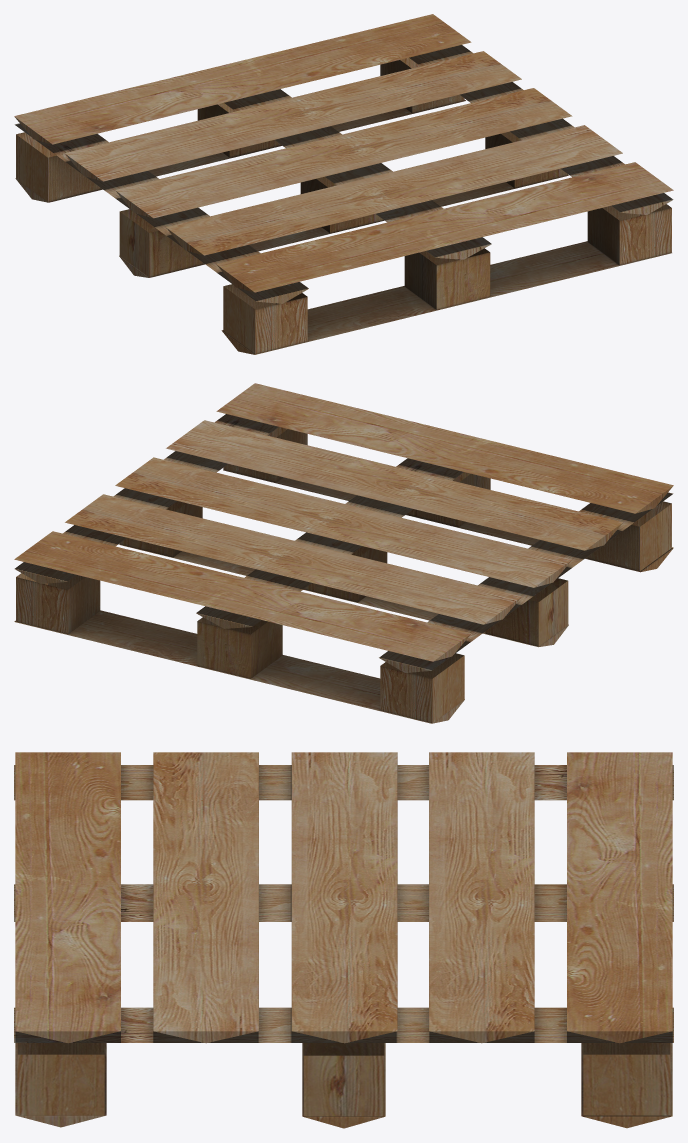
The model's file is Palette_LOD1.fbx.
3 renders of one model, top to bottom at view 1: azimuth 30°, elevation 25°; view 2: azimuth 150°, elevation 25°; view 3: azimuth 270°, elevation 25°, orthographic. The views are drawn at different scales.
Visible parts, largest first — view 1: polySurface196; view 2: polySurface196; view 3: polySurface196.
Part boxes in pixels (<box>): polySurface196: <box>14,14,673,354</box>; polySurface196: <box>14,383,673,723</box>; polySurface196: <box>14,752,673,1128</box>.
Size of the model in its own units: 2.16 by 0.3492 by 2.15.
